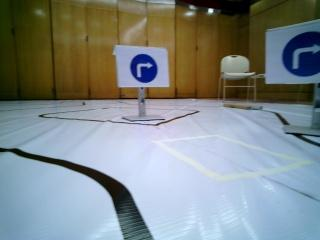right: (268, 27, 320, 83), (114, 43, 166, 88)
